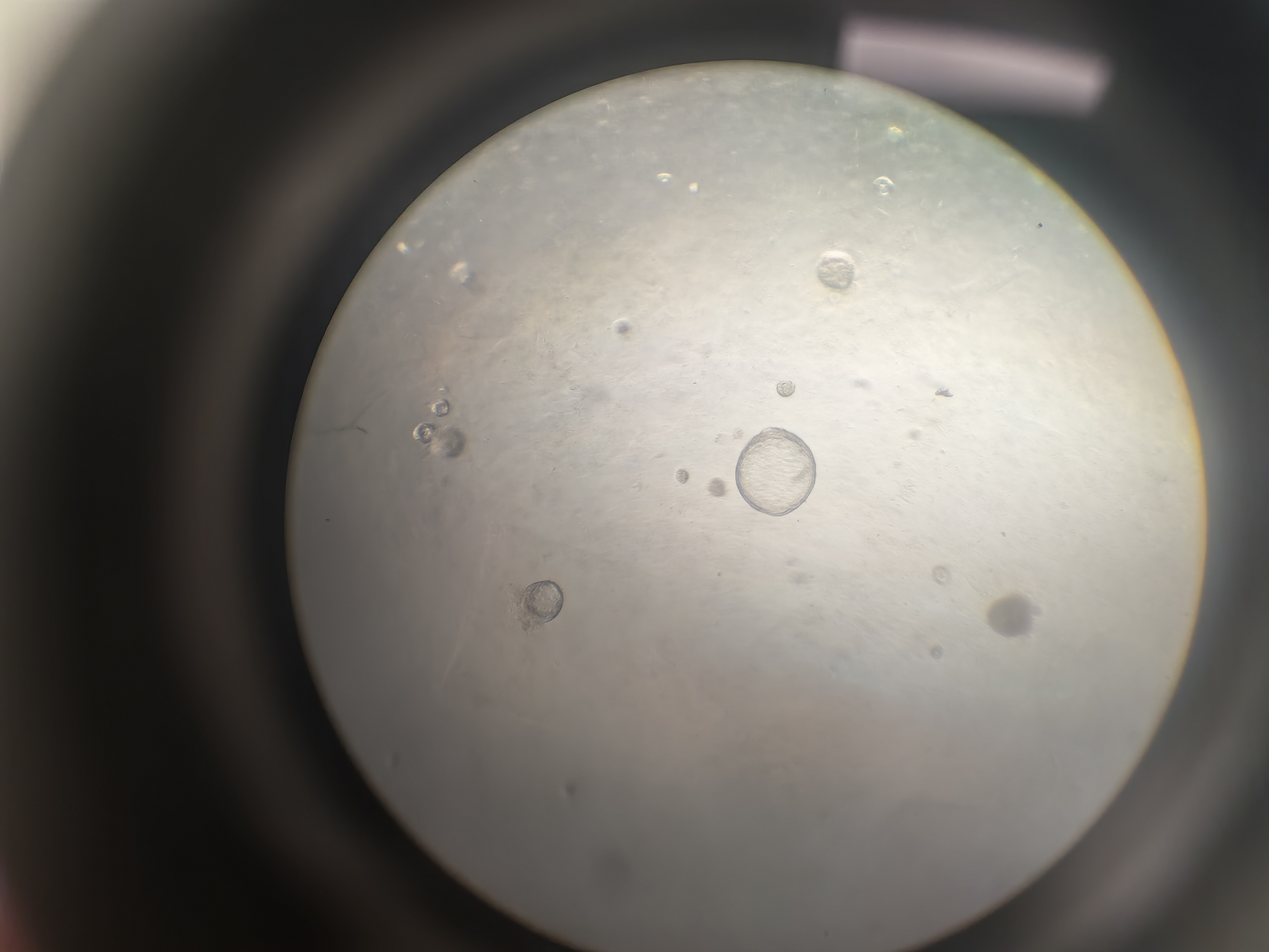organoid: (731, 488, 876, 639), (1050, 239, 1128, 388), (499, 467, 568, 526)
